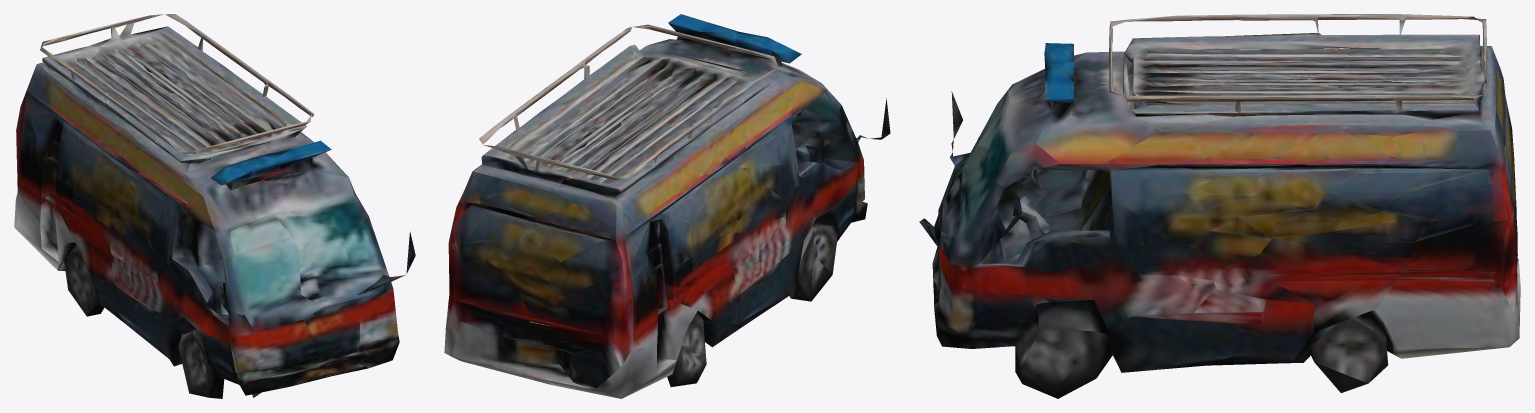
File: mobil_binmas_lod2.glb
3 views of the same model, side by side, from view 1: azimuth 30°, elevation 25°; view 2: azimuth 150°, elevation 25°; view 3: azimuth 270°, elevation 25° (orthographic). The views are drawn at different scales.
Parts seen in each view (by area): view 1: Idle; view 2: Idle; view 3: Idle.
Boxes of the visible parts, x1,y1,x2,y2 form: Idle: (14, 14, 415, 398); Idle: (444, 14, 890, 398); Idle: (919, 14, 1520, 398).
Bounding box in the file's own units: 46.99 × 52.57 × 97.93.
Materials: 1 (1 with a texture image).
